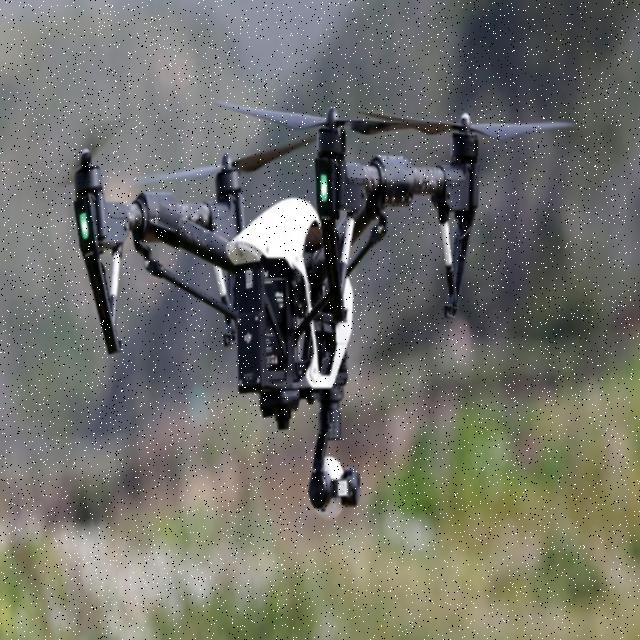UAV: (72, 95, 487, 525)
